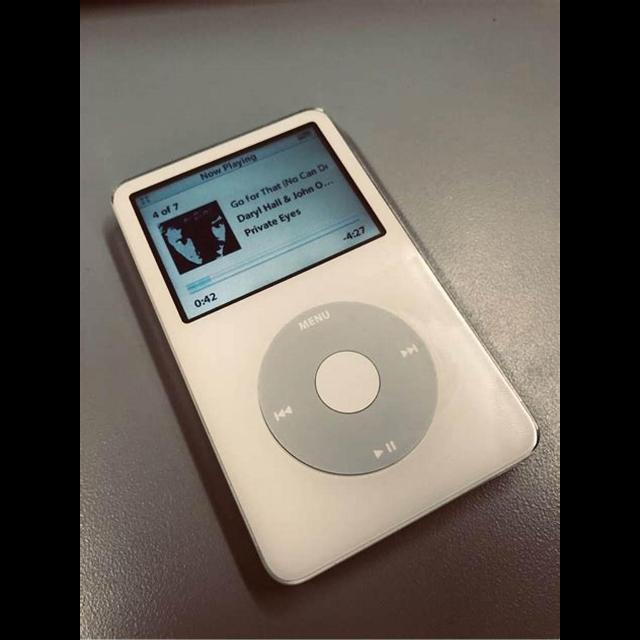Music-Player: (109, 105, 542, 592)
